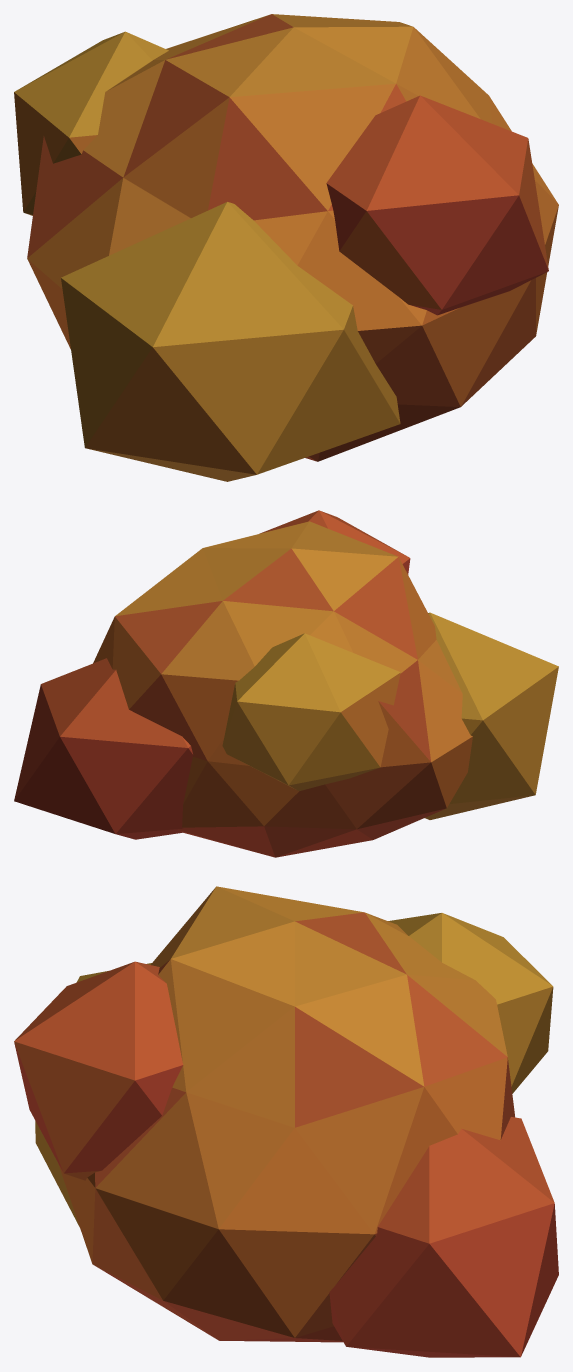
Rendered from bush_autumn.glb.
3 renders of one model, top to bottom at view 1: azimuth 30°, elevation 25°; view 2: azimuth 150°, elevation 25°; view 3: azimuth 270°, elevation 25°, orthographic. The views are drawn at different scales.
Visible parts, largest first — view 1: bush_autumn; view 2: bush_autumn; view 3: bush_autumn.
Part boxes in pixels (x1,y1,x2,y2): bush_autumn: (14,14,558,481); bush_autumn: (14,510,558,857); bush_autumn: (14,886,558,1357).
Size of the model in its own units: 1.45 by 0.9744 by 1.3.
